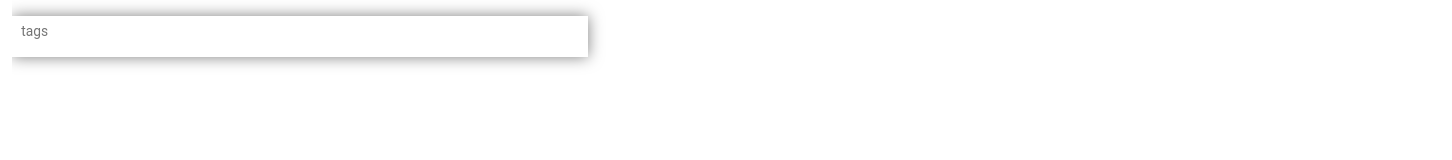
Combobox › clears the notice after a tag is created
Type "sci-fi" into the field with placeholder "tags" at coordinates (304, 31), box [19, 16, 588, 46]
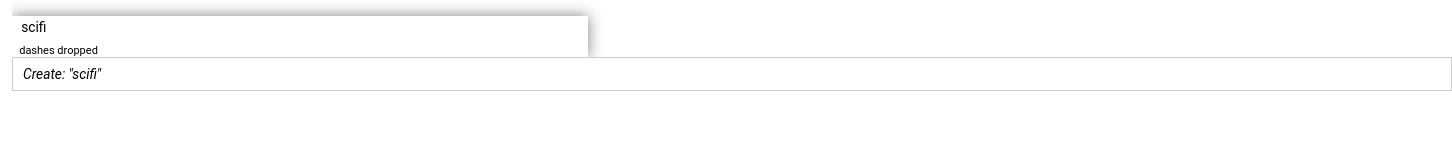
Press Enter in the field with placeholder "tags", box [19, 16, 588, 39]
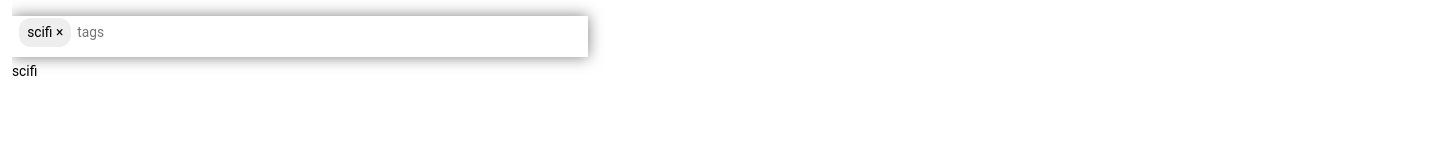
Expected: the text "scifi" is shown, [12, 61, 37, 81]
Expected: the text "dashes dropped" is gone
